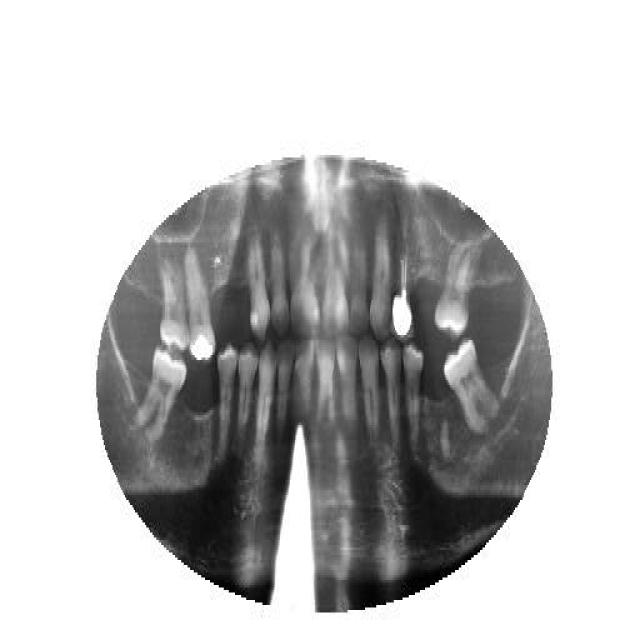Fillings: (186, 240, 215, 360)
Implant: (392, 240, 412, 338)
